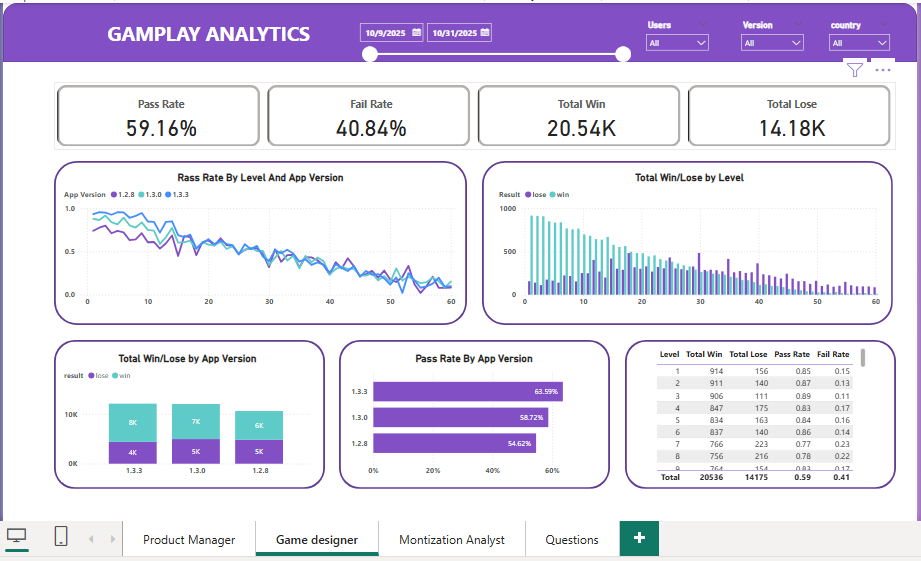

Layout of this report page (visuals, bound fields, positions):
{"tool":"powerbi","page":{"name":"Game designer","canvas":[1500,850],"ordinal":1},"visuals":[{"type":"shape","box":[1020.7,553,444.7,244.5],"z":0},{"type":"shape","box":[551.4,553,444.7,244.5],"z":1000},{"type":"shape","box":[83.7,553,444.7,244.5],"z":2000},{"type":"shape","box":[786,259.3,674.4,269.1],"z":3000},{"type":"shape","box":[83.7,259.3,677.7,269.1],"z":4000},{"type":"shape","box":[0,0,1499.8,96.8],"z":5000},{"type":"cardVisual","fields":{"Data":["_Measures.pass rate","_Measures.fail rate","_Measures.win","_Measures.lose"]},"box":[83.7,129.6,1381.7,111.6],"z":6000},{"type":"lineChart","title":"Rass Rate By Level And App Version","fields":{"Category":["Cleaned_data_gameapp.level"],"Y":["_Measures.pass rate"],"Series":["Cleaned_data_gameapp.app_version"]},"box":[95.2,275.7,654.7,233],"z":7000},{"type":"clusteredColumnChart","title":"Total Win/Lose by Level","fields":{"Category":["Cleaned_data_gameapp.level"],"Y":["_Measures.total rows"],"Series":["Cleaned_data_gameapp.result"]},"box":[809,275.7,635,233],"z":8000},{"type":"clusteredBarChart","title":"Pass Rate By App Version","fields":{"Y":["_Measures.pass rate"],"Category":["Cleaned_data_gameapp.app_version"]},"box":[564.5,572.7,416.8,213.3],"z":9000},{"type":"columnChart","title":"Total Win/Lose by App Version","fields":{"Category":["Cleaned_data_gameapp.app_version"],"Series":["Cleaned_data_gameapp.result"],"Y":["_Measures.total rows"]},"box":[95.2,572.7,415.2,213.3],"z":10000},{"type":"tableEx","fields":{"Values":["Cleaned_data_gameapp.level","_Measures.win","_Measures.lose","_Measures.pass rate","_Measures.fail rate"]},"box":[1066.6,561.2,354.4,229.7],"z":11000},{"type":"textbox","box":[68.3,23.3,536.7,86.7],"z":12000},{"type":"slicer","fields":{"Values":["Cleaned_data_gameapp.app_version"]},"box":[1201.4,22.6,123.3,74.7],"z":13000},{"type":"slicer","fields":{"Values":["Cleaned_data_gameapp.country"]},"box":[1345,23.3,120,73.3],"z":14000},{"type":"slicer","fields":{"Values":["Cleaned_data_gameapp.event_time_utc"]},"box":[572.9,22.6,465.3,86.8],"z":15000},{"type":"slicer","fields":{"Values":["Cleaned_data_gameapp.user_id"]},"box":[1045.1,22.6,123.3,72.9],"z":16000}]}

Visuals, with their boxes on the page's 1500x850 design canvas (x1, y1, x2, y2). These are canvas units, not pixel positions in the 921x561 screenshot, which may show the page scaled, cropped or inside an application window:
shape: 1021, 553, 1465, 798
shape: 551, 553, 996, 798
shape: 84, 553, 528, 798
shape: 786, 259, 1460, 528
shape: 84, 259, 761, 528
shape: 0, 0, 1500, 97
cardVisual - _Measures.pass rate x _Measures.fail rate: 84, 130, 1465, 241
"Rass Rate By Level And App Version" lineChart: 95, 276, 750, 509
"Total Win/Lose by Level" clusteredColumnChart: 809, 276, 1444, 509
"Pass Rate By App Version" clusteredBarChart: 564, 573, 981, 786
"Total Win/Lose by App Version" columnChart: 95, 573, 510, 786
tableEx - Cleaned_data_gameapp.level x _Measures.win: 1067, 561, 1421, 791
textbox: 68, 23, 605, 110
slicer - Cleaned_data_gameapp.app_version: 1201, 23, 1325, 97
slicer - Cleaned_data_gameapp.country: 1345, 23, 1465, 97
slicer - Cleaned_data_gameapp.event_time_utc: 573, 23, 1038, 109
slicer - Cleaned_data_gameapp.user_id: 1045, 23, 1168, 96
